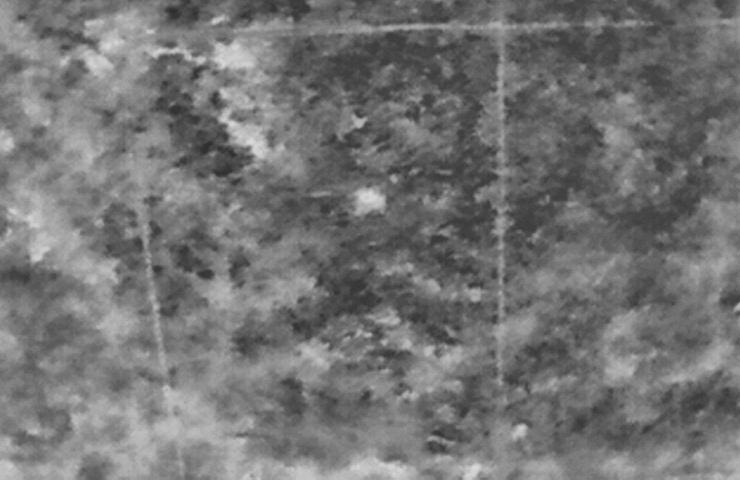landmines: (348, 185, 390, 223)
